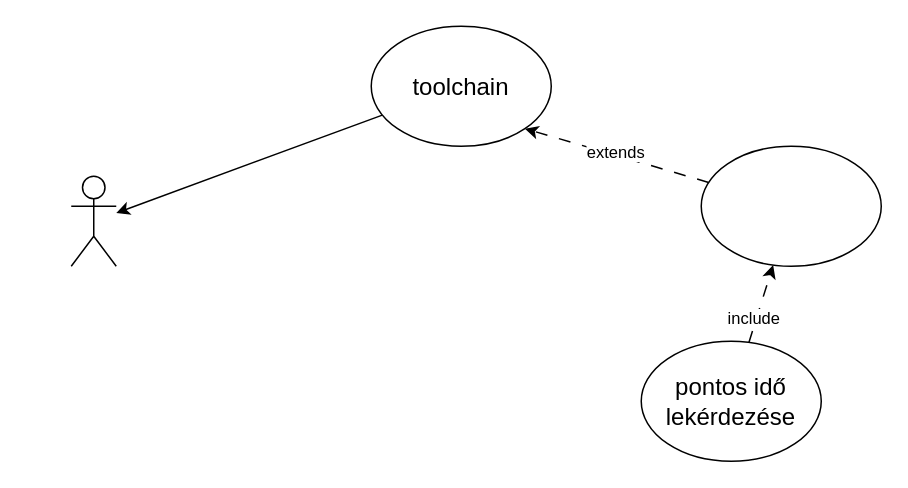
Image size: 908x488. Some labels were removed from this diagram. The centre of each missing label's shape, as x and y in pixels:
felhasználó: the point at 93,220
konzol kiírás: the point at 790,205
